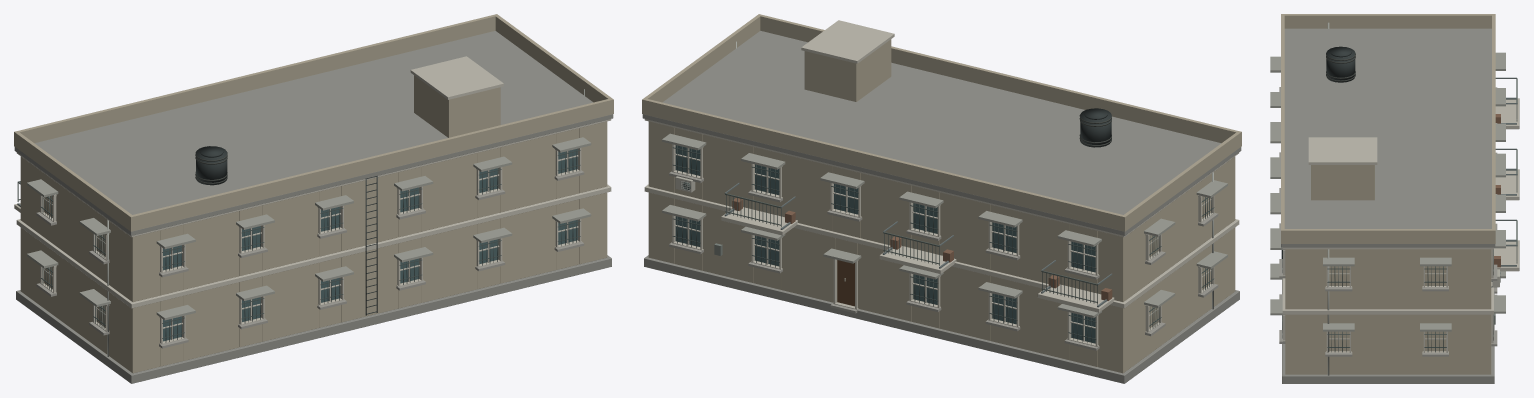
File: school_block.glb
The picture shows the model from 3 angles, left to right: view 1: azimuth 30°, elevation 25°; view 2: azimuth 150°, elevation 25°; view 3: azimuth 270°, elevation 25°; orthographic projection. The views are drawn at different scales.
Visible parts, largest first — view 1: school_block; view 2: school_block; view 3: school_block.
Part boxes in pixels (x1,y1,x2,y2): school_block: (14,14,613,383); school_block: (642,14,1241,383); school_block: (1270,14,1519,383).
Bounding box in the file's own units: 23.33 × 8.66 × 10.88.
